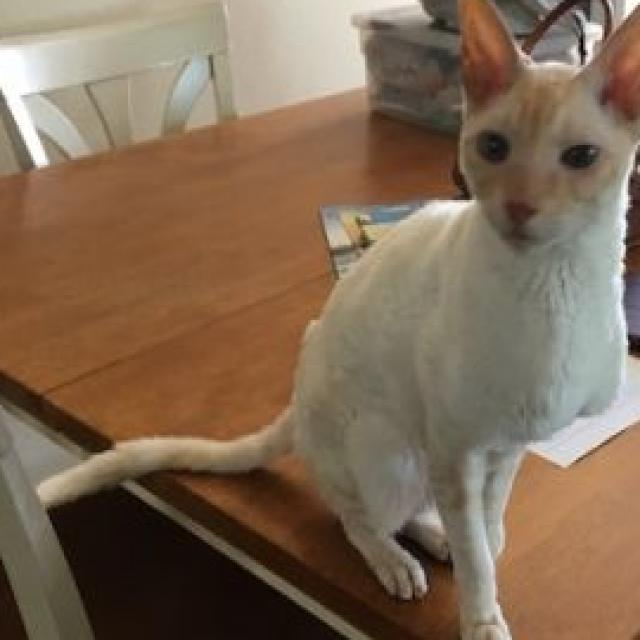Cornish Rex: (21, 0, 640, 640)
